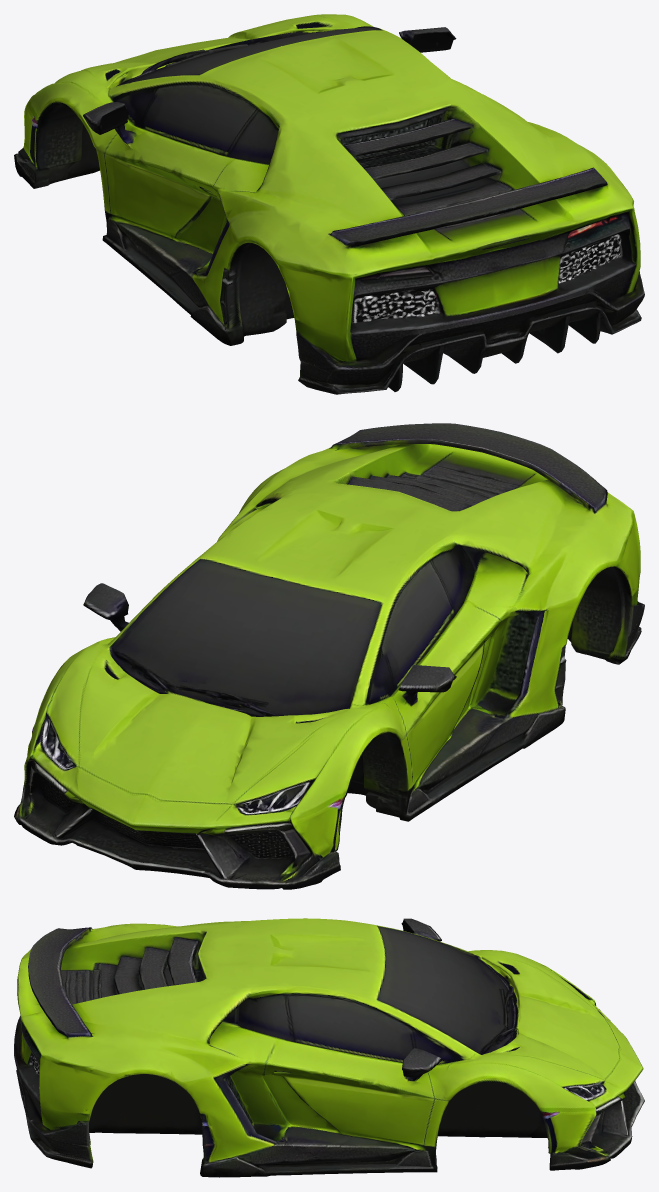
The model's file is supercar.glb.
3 views of the same model, one above another, from view 1: azimuth 30°, elevation 25°; view 2: azimuth 150°, elevation 25°; view 3: azimuth 270°, elevation 25° (orthographic). The views are drawn at different scales.
Visible parts, largest first — view 1: tripo_node_eb18a7b8-3d94-44a5-b99f-8f0e98669121; view 2: tripo_node_eb18a7b8-3d94-44a5-b99f-8f0e98669121; view 3: tripo_node_eb18a7b8-3d94-44a5-b99f-8f0e98669121.
Boxes of the visible parts, x1,y1,x2,y2 form: tripo_node_eb18a7b8-3d94-44a5-b99f-8f0e98669121: (14,14,644,394); tripo_node_eb18a7b8-3d94-44a5-b99f-8f0e98669121: (14,423,644,889); tripo_node_eb18a7b8-3d94-44a5-b99f-8f0e98669121: (14,918,644,1177).
Size of the model in its own units: 2.27 by 1.15 by 4.1.
1 material, 1 textured.
